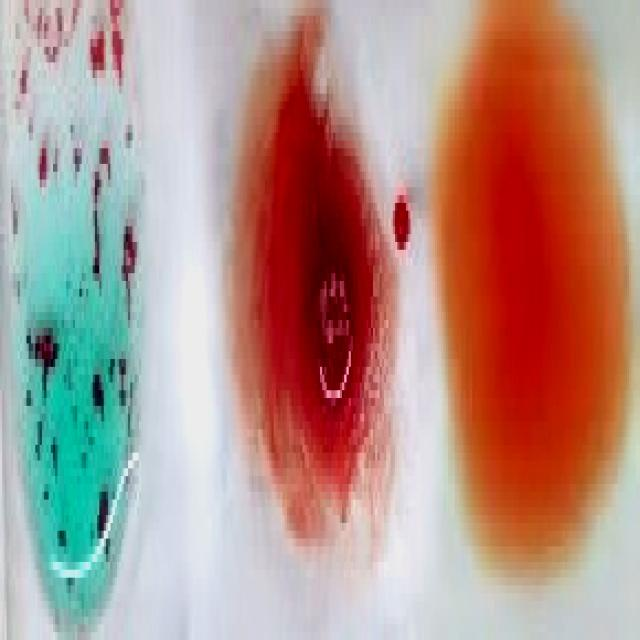A: (3, 1, 143, 620)
D: (236, 49, 396, 559)
